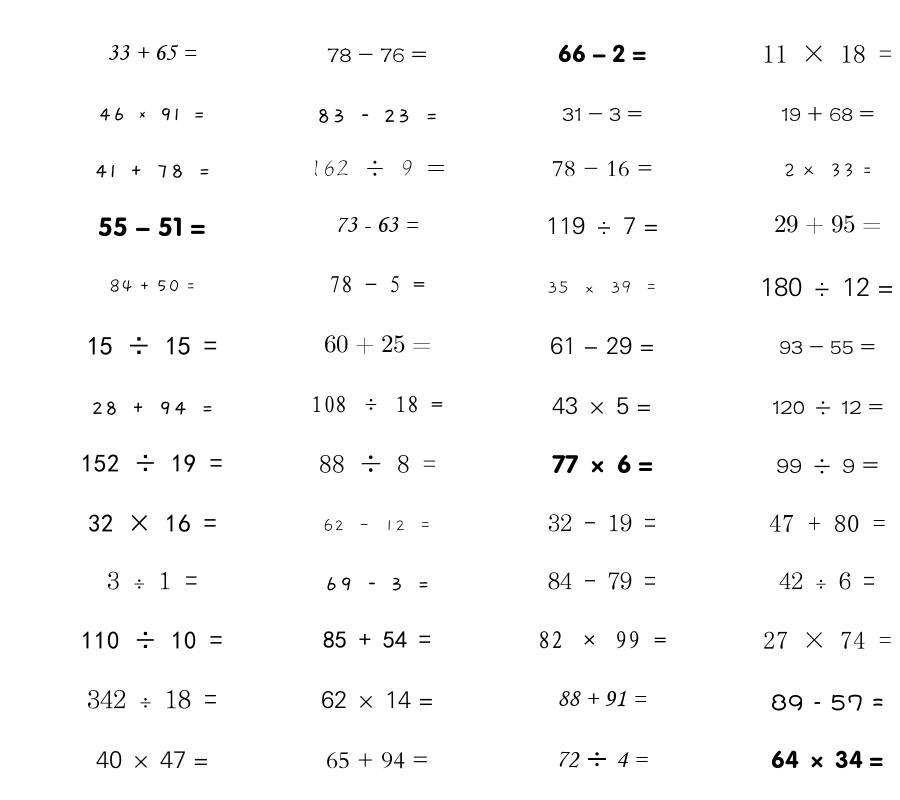MQ: (81, 631, 223, 650), (760, 277, 894, 297), (87, 689, 217, 709), (81, 454, 223, 472), (762, 44, 892, 63), (87, 336, 217, 355), (311, 395, 443, 413), (88, 514, 217, 532), (538, 631, 667, 649), (763, 631, 892, 649), (310, 160, 445, 177), (98, 217, 206, 237), (321, 690, 434, 709), (774, 215, 881, 235), (324, 335, 431, 355), (771, 750, 883, 769), (319, 455, 436, 473), (769, 514, 886, 532), (546, 217, 659, 235), (96, 751, 209, 769), (552, 454, 653, 474), (550, 336, 655, 355), (548, 514, 656, 532), (548, 572, 656, 590), (771, 694, 884, 711), (316, 108, 439, 123), (323, 631, 431, 648), (552, 397, 652, 415), (326, 752, 429, 769), (107, 571, 198, 590), (329, 275, 425, 293), (779, 572, 875, 590), (91, 401, 214, 415), (552, 160, 653, 177), (558, 44, 646, 63), (772, 400, 883, 415), (776, 458, 879, 474), (94, 164, 211, 178), (556, 751, 648, 768), (547, 280, 658, 294), (557, 690, 647, 707), (323, 518, 432, 532), (98, 107, 206, 121), (781, 106, 874, 122), (324, 577, 430, 591), (107, 44, 197, 60), (327, 48, 427, 62), (335, 217, 419, 233), (779, 340, 875, 354), (783, 163, 872, 178), (109, 279, 196, 293), (562, 107, 642, 121)
